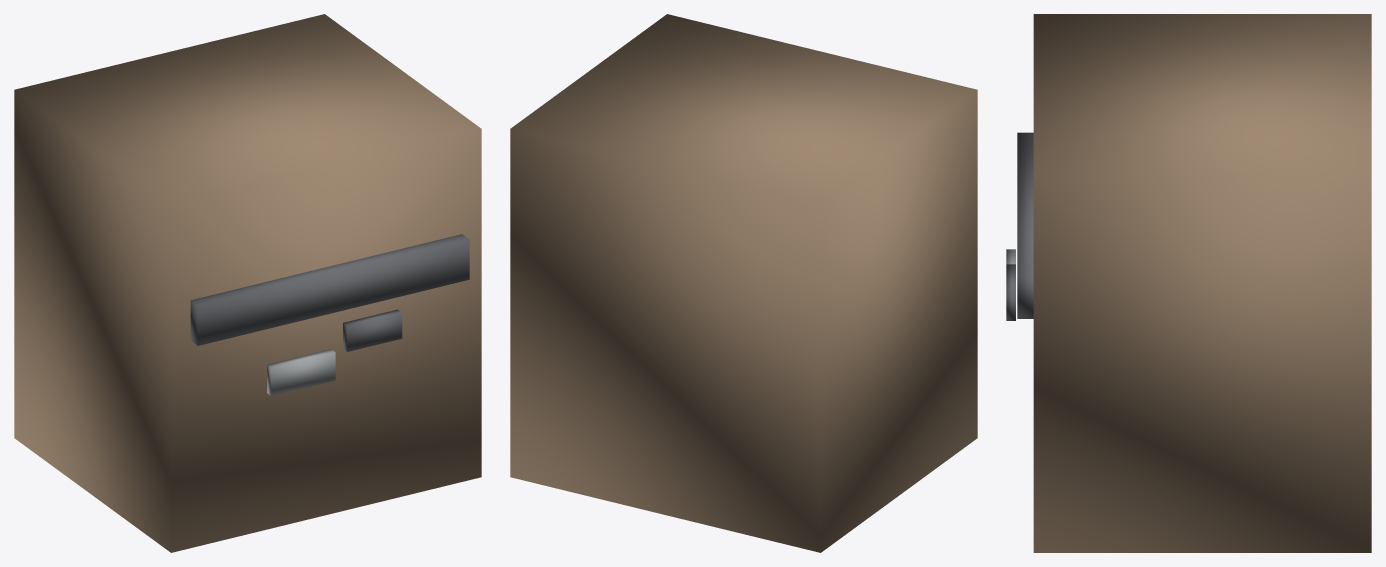
File: side_table__weathered.glb
3 views of the same model, side by side, from view 1: azimuth 30°, elevation 25°; view 2: azimuth 150°, elevation 25°; view 3: azimuth 270°, elevation 25° (orthographic). The views are drawn at different scales.
Parts seen in each view (by area): view 1: world; view 2: world; view 3: world.
Part boxes in pixels (bbox=[...]): world: bbox=[14, 14, 481, 552]; world: bbox=[510, 14, 977, 552]; world: bbox=[1006, 14, 1371, 552].
Bounding box in the file's own units: 0.48 × 0.5148 × 0.454.
